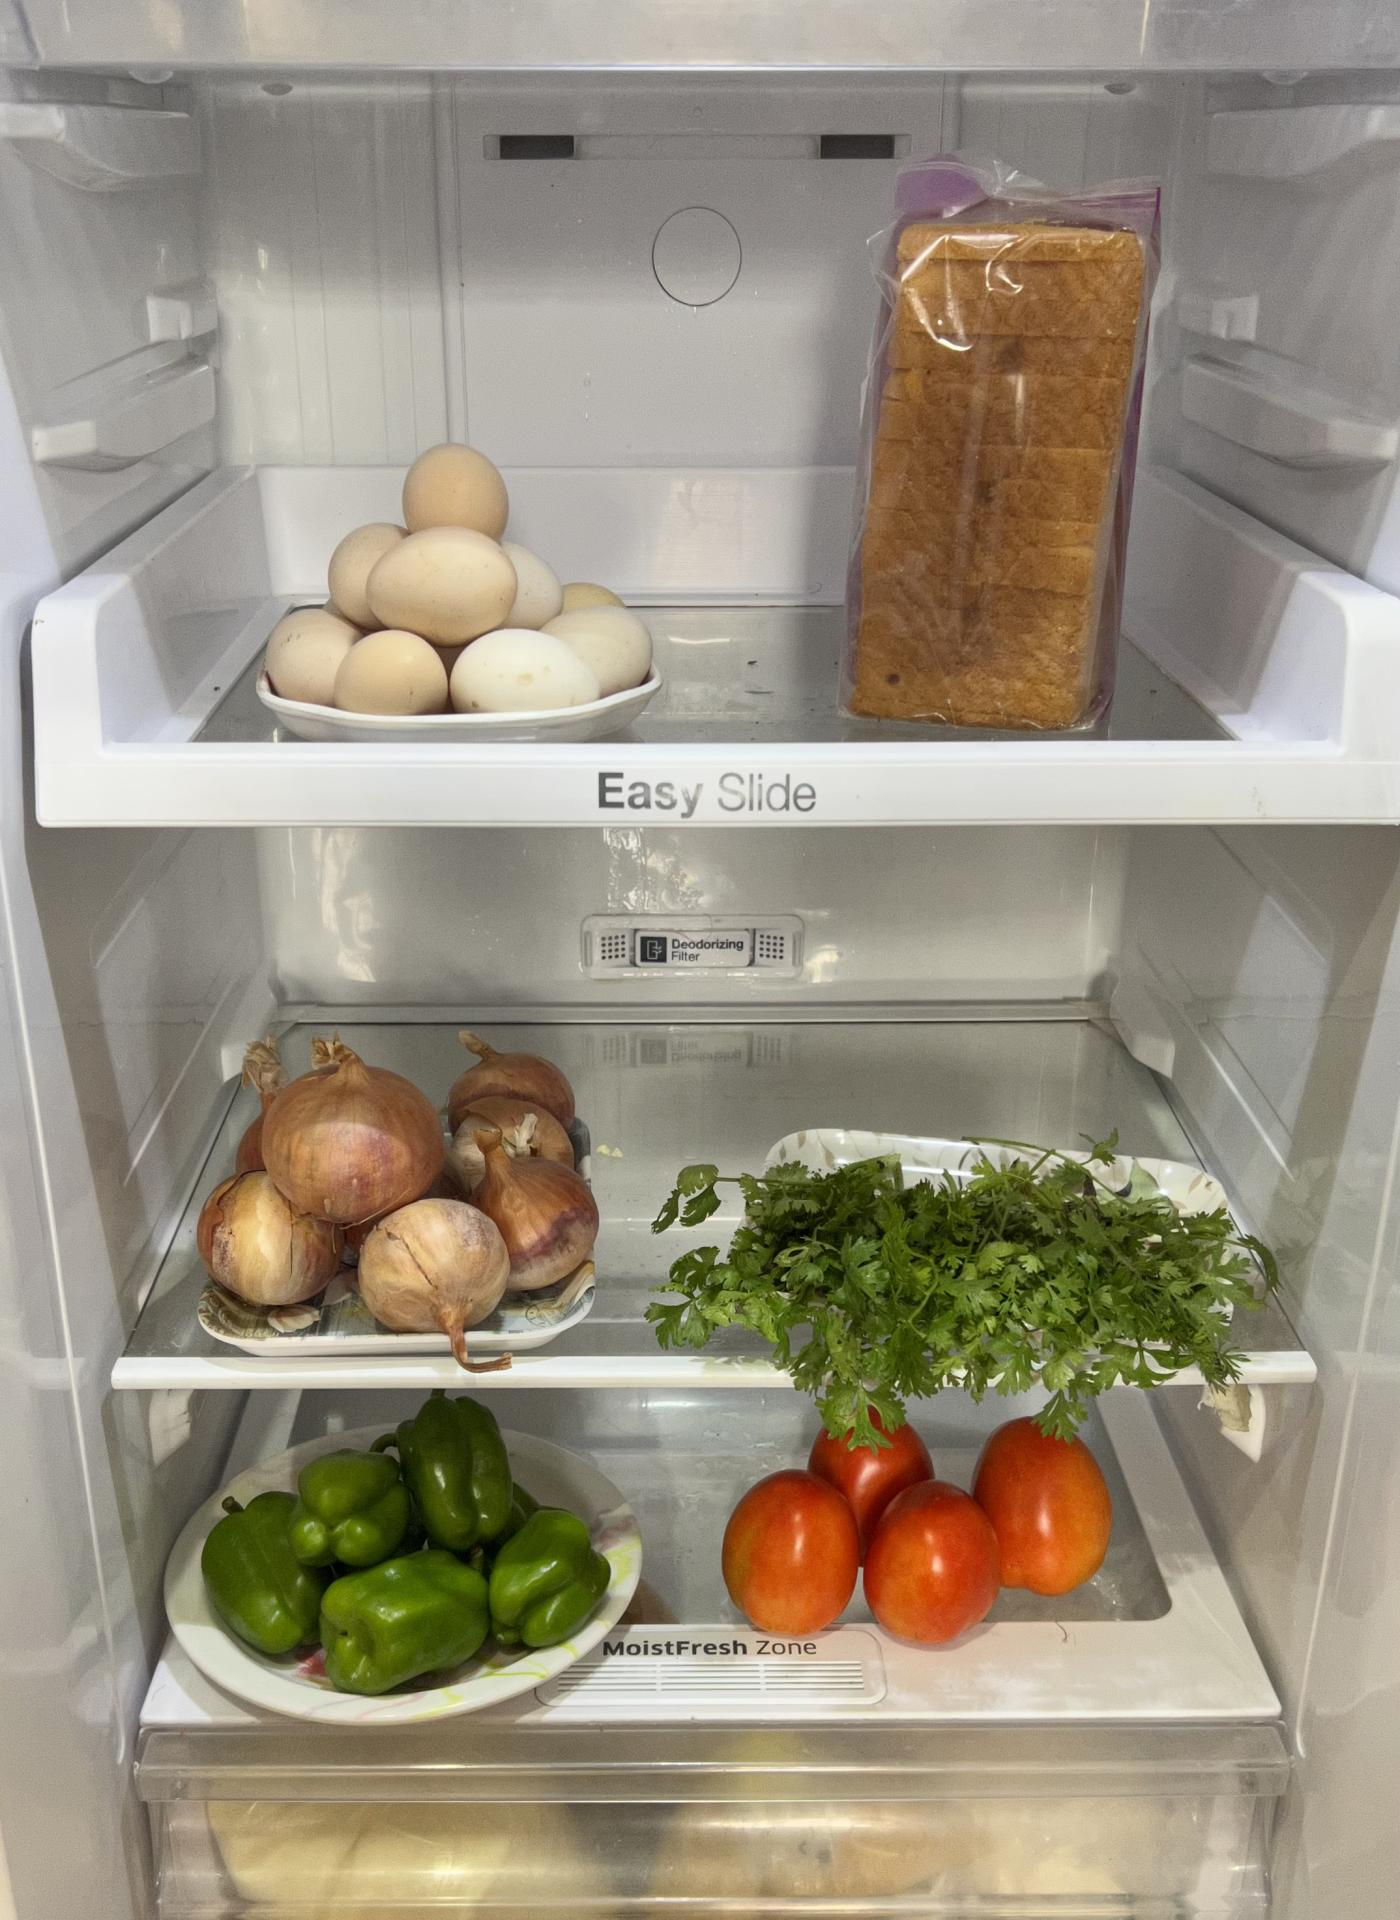bread: (836, 186, 1161, 730)
capsicum: (200, 1395, 610, 1693)
coriander: (656, 1143, 1275, 1401)
egg: (264, 449, 652, 721)
onion: (191, 1017, 596, 1337)
tomato: (720, 1410, 1123, 1646)
